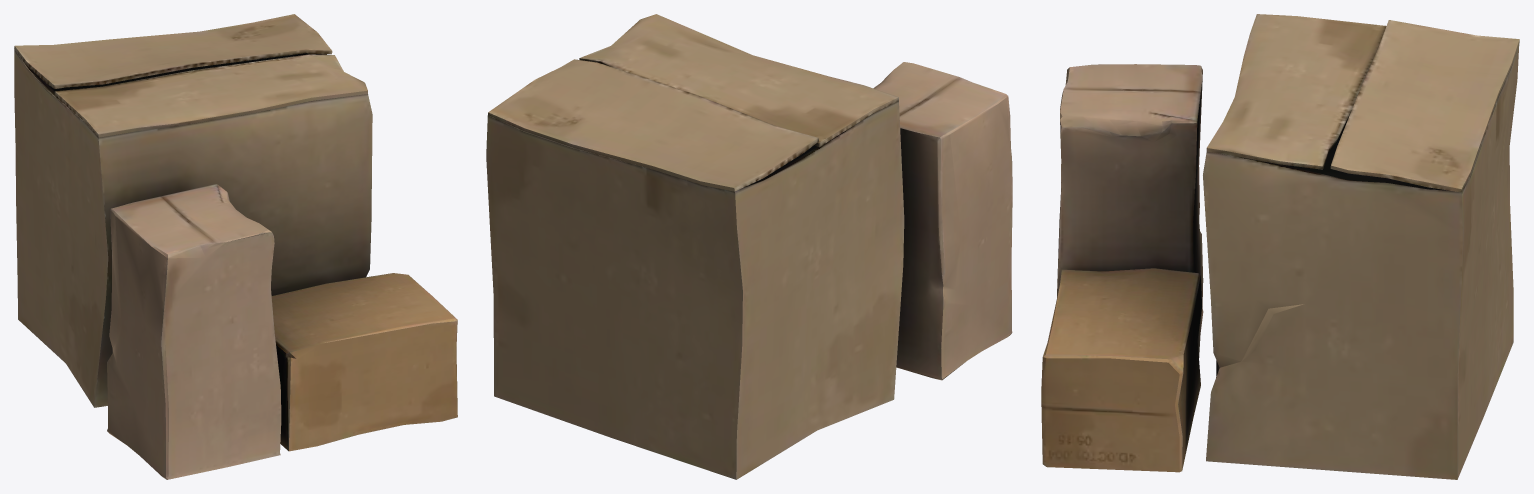
3 renders of one model, left to right at view 1: azimuth 30°, elevation 25°; view 2: azimuth 150°, elevation 25°; view 3: azimuth 270°, elevation 25°, orthographic. The views are drawn at different scales.
Parts seen in each view (by area): view 1: body0_model0_lod0_mesh0; view 2: body0_model0_lod0_mesh0; view 3: body0_model0_lod0_mesh0.
Boxes of the visible parts, x1=… form: body0_model0_lod0_mesh0: x1=14, y1=14, x2=457, y2=479; body0_model0_lod0_mesh0: x1=486, y1=14, x2=1012, y2=479; body0_model0_lod0_mesh0: x1=1041, y1=14, x2=1519, y2=479.
Bounding box in the file's own units: 62.27 × 54.2 × 74.81.
Materials: 1 (1 with a texture image).
